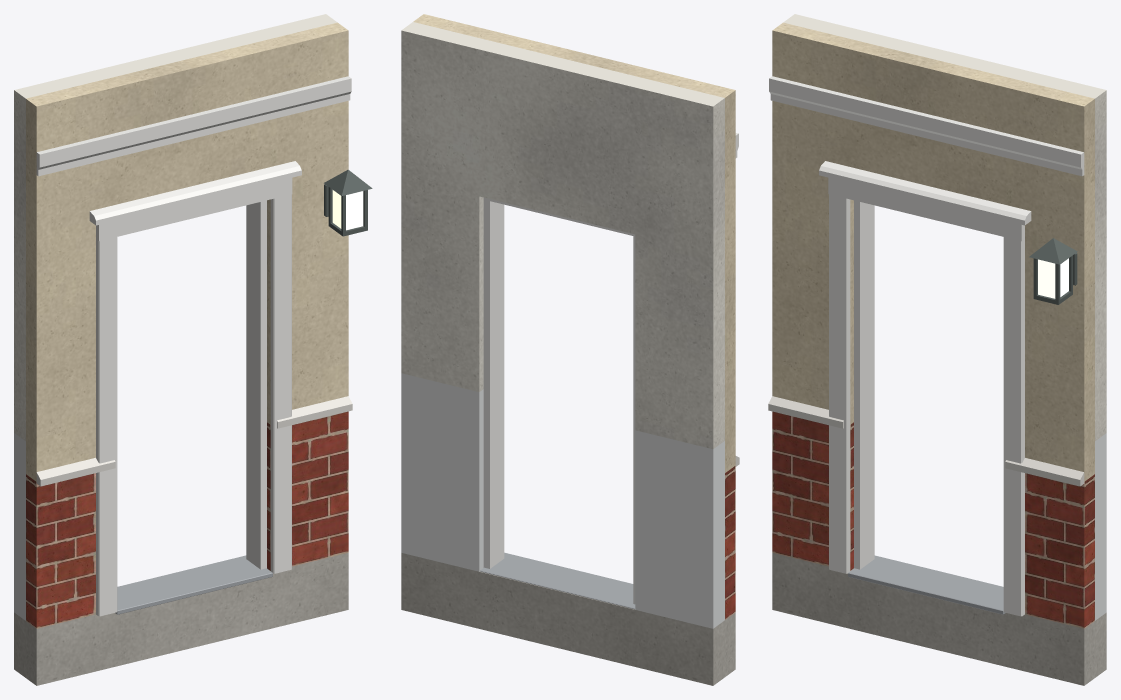
Rendered from c_door.glb.
3 renders of one model, left to right at view 1: azimuth 30°, elevation 25°; view 2: azimuth 150°, elevation 25°; view 3: azimuth 330°, elevation 25°, orthographic.
Visible parts, largest first — view 1: c_door_render, c_door_trim, c_door_brick, c_door_concrete, c_door_plaster, c_door_steel, c_door_coping, c_door_tile, c_door_iron, c_door_lamp_glass; view 2: c_door_plaster, c_door_tile, c_door_concrete, c_door_trim, c_door_render, c_door_steel, c_door_brick; view 3: c_door_render, c_door_trim, c_door_brick, c_door_concrete, c_door_plaster, c_door_steel, c_door_coping, c_door_tile, c_door_iron, c_door_lamp_glass.
Boxes of the visible parts, box(x1,y1,x2,y2) form: c_door_render: box(26, 22, 348, 481); c_door_trim: box(36, 76, 351, 616); c_door_brick: box(26, 411, 348, 628); c_door_concrete: box(14, 553, 348, 685); c_door_plaster: box(14, 14, 337, 441); c_door_steel: box(115, 555, 272, 614); c_door_coping: box(36, 396, 352, 486); c_door_tile: box(14, 433, 25, 620); c_door_iron: box(324, 169, 372, 236); c_door_lamp_glass: box(332, 190, 363, 230); c_door_plaster: box(401, 22, 724, 449); c_door_tile: box(401, 373, 724, 628); c_door_concrete: box(401, 553, 735, 685); c_door_trim: box(483, 133, 738, 604); c_door_render: box(413, 14, 735, 472); c_door_steel: box(480, 552, 635, 609); c_door_brick: box(725, 466, 735, 619); c_door_render: box(772, 22, 1094, 481); c_door_trim: box(769, 76, 1084, 616); c_door_brick: box(772, 411, 1094, 628); c_door_concrete: box(772, 553, 1106, 685); c_door_plaster: box(783, 14, 1106, 440); c_door_steel: box(848, 555, 1005, 614); c_door_coping: box(768, 396, 1084, 486); c_door_tile: box(1095, 433, 1106, 620); c_door_iron: box(1029, 238, 1077, 304); c_door_lamp_glass: box(1038, 258, 1068, 298).
Size of the model in its own units: 2 by 3.55 by 0.52.
Materials: 10 (4 with a texture image).
